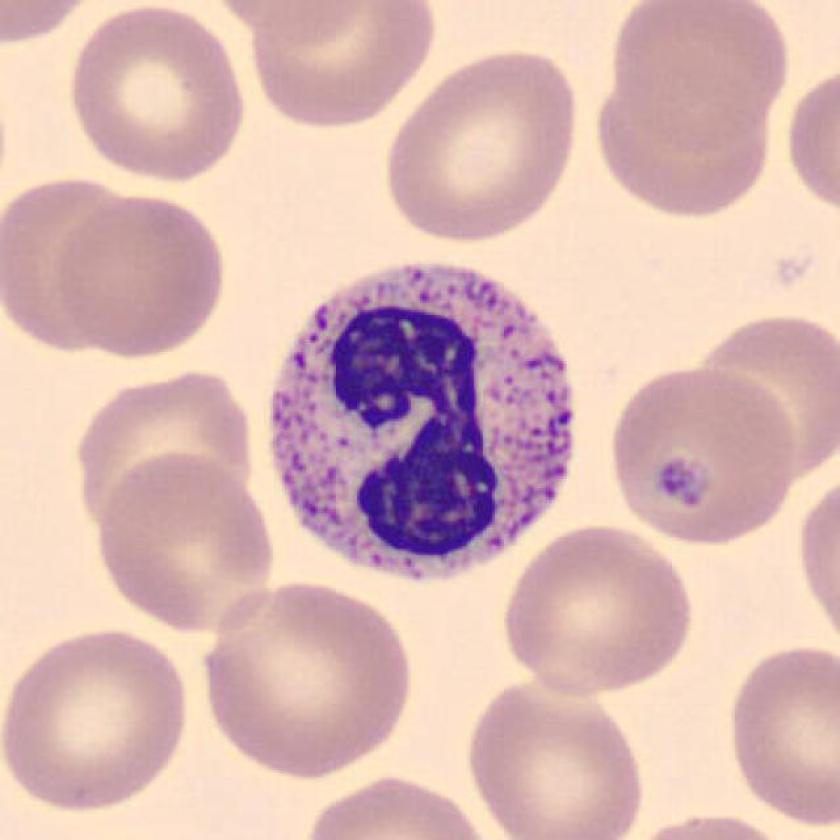neutrophil: (272, 265, 574, 584)
